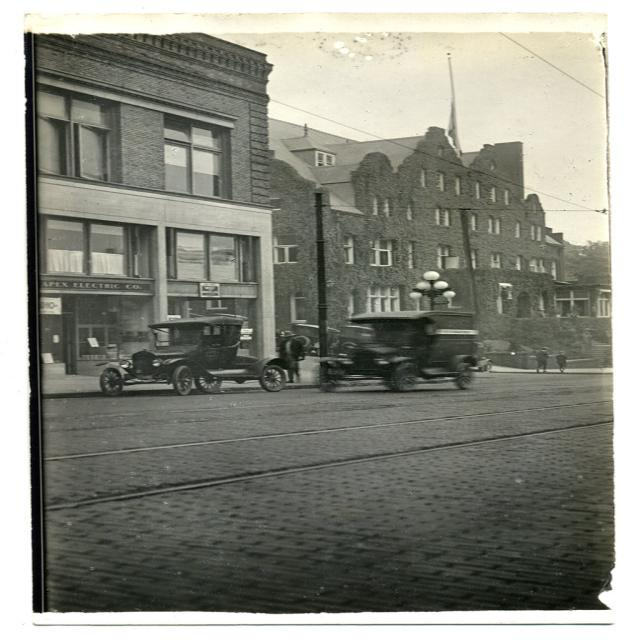car: (90, 311, 304, 401), (317, 310, 489, 393)
